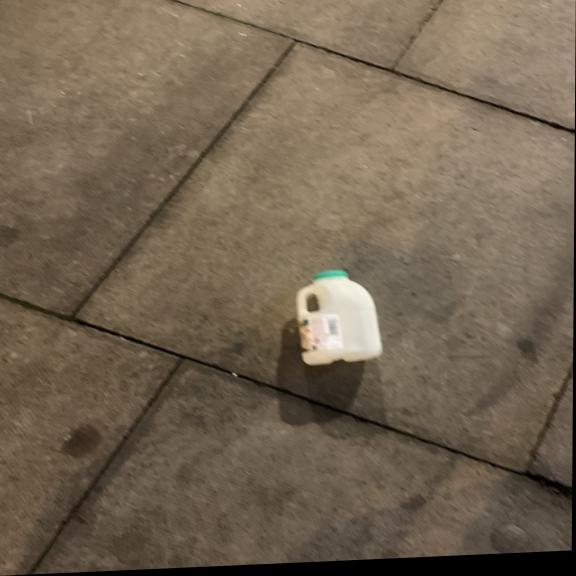Plastik: (291, 267, 388, 375)
